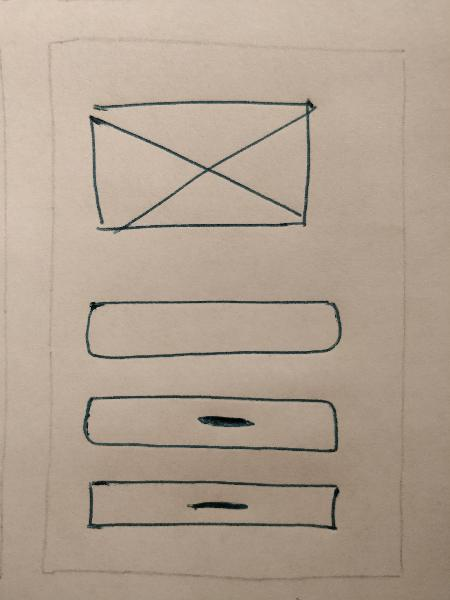button: (77, 386, 345, 464), (80, 475, 346, 542)
image: (85, 91, 323, 241)
text_input: (76, 290, 347, 375)
